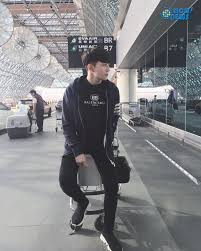people: (62, 47, 125, 251), (29, 89, 46, 132)
